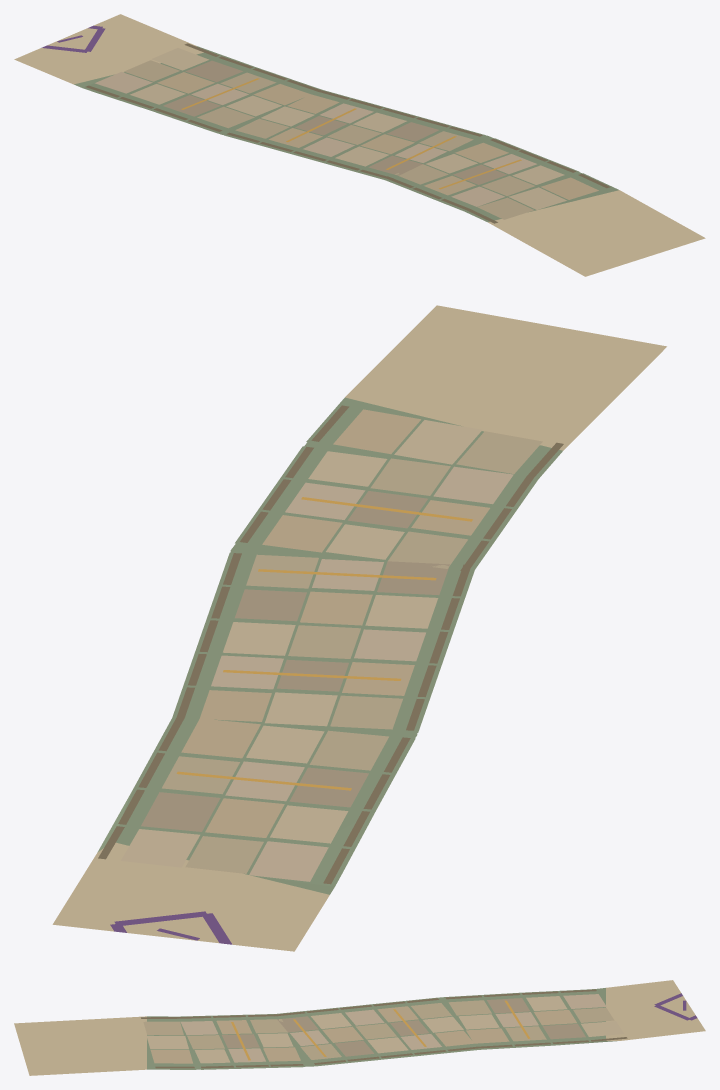
The model's file is route-temple_n-mid-ramp.glb.
The picture shows the model from 3 angles, top to bottom: view 1: azimuth 30°, elevation 25°; view 2: azimuth 150°, elevation 25°; view 3: azimuth 270°, elevation 25°; orthographic projection. The views are drawn at different scales.
Parts seen in each view (by area): view 1: Surveyed floor · route-temple_n-mid-ramp, North Temple to Sluice / #C9B798, North Temple to Sluice / #BDAD8E, North Temple to Sluice / #C2AE8D, North Temple to Sluice / #C7B399, North Temple to Sluice / #AE9D84, North Temple to Sluice / #85775D, North Temple to Sluice / brass; view 2: Surveyed floor · route-temple_n-mid-ramp, North Temple to Sluice / #C9B798, North Temple to Sluice / #BDAD8E, North Temple to Sluice / #C2AE8D, North Temple to Sluice / #C7B399, North Temple to Sluice / #AE9D84, North Temple to Sluice / #85775D, North Temple to Sluice / brass; view 3: Surveyed floor · route-temple_n-mid-ramp, North Temple to Sluice / #C9B798, North Temple to Sluice / #BDAD8E, North Temple to Sluice / #C2AE8D, North Temple to Sluice / #C7B399, North Temple to Sluice / #AE9D84, North Temple to Sluice / #85775D, North Temple to Sluice / brass.
Part boxes in pixels (x1,y1,x2,y2): Surveyed floor · route-temple_n-mid-ramp: (14,14,705,276); North Temple to Sluice / #C9B798: (130,48,566,209); North Temple to Sluice / #BDAD8E: (124,60,534,219); North Temple to Sluice / #C2AE8D: (157,72,598,199); North Temple to Sluice / #C7B399: (95,72,536,206); North Temple to Sluice / #AE9D84: (163,60,506,184); North Temple to Sluice / #85775D: (85,43,610,223); North Temple to Sluice / brass: (181,78,521,189); Surveyed floor · route-temple_n-mid-ramp: (52,305,666,951); North Temple to Sluice / #C9B798: (121,420,482,867); North Temple to Sluice / #BDAD8E: (162,431,542,873); North Temple to Sluice / #C2AE8D: (181,409,489,837); North Temple to Sluice / #C7B399: (211,466,513,881); North Temple to Sluice / #AE9D84: (141,491,449,831); North Temple to Sluice / #85775D: (98,405,563,884); North Temple to Sluice / brass: (176,497,472,790); Surveyed floor · route-temple_n-mid-ramp: (14,980,705,1075); North Temple to Sluice / #C9B798: (146,996,623,1063); North Temple to Sluice / #BDAD8E: (143,1000,614,1059); North Temple to Sluice / #C2AE8D: (150,1006,576,1063); North Temple to Sluice / #C7B399: (180,994,606,1062); North Temple to Sluice / #AE9D84: (222,998,585,1056); North Temple to Sluice / #85775D: (141,989,627,1068); North Temple to Sluice / brass: (231,1000,530,1060).
Bounding box in the file's own units: 13.87 × 1.43 × 33.16.
